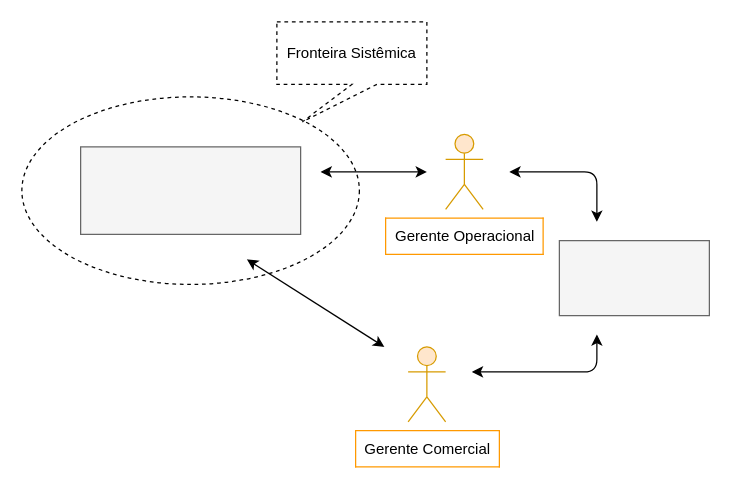
Image size: 731x490. Some labels were removed from this diagram. The shapes that lost their labels are listed below. From the top down, each one's box as (x1, y1, x2, y2) in pixels, then its label:
(79, 146, 301, 234): ERP - Enterprise resource planning
(558, 239, 709, 316): Gestão de relacionamento e recursos Manual
